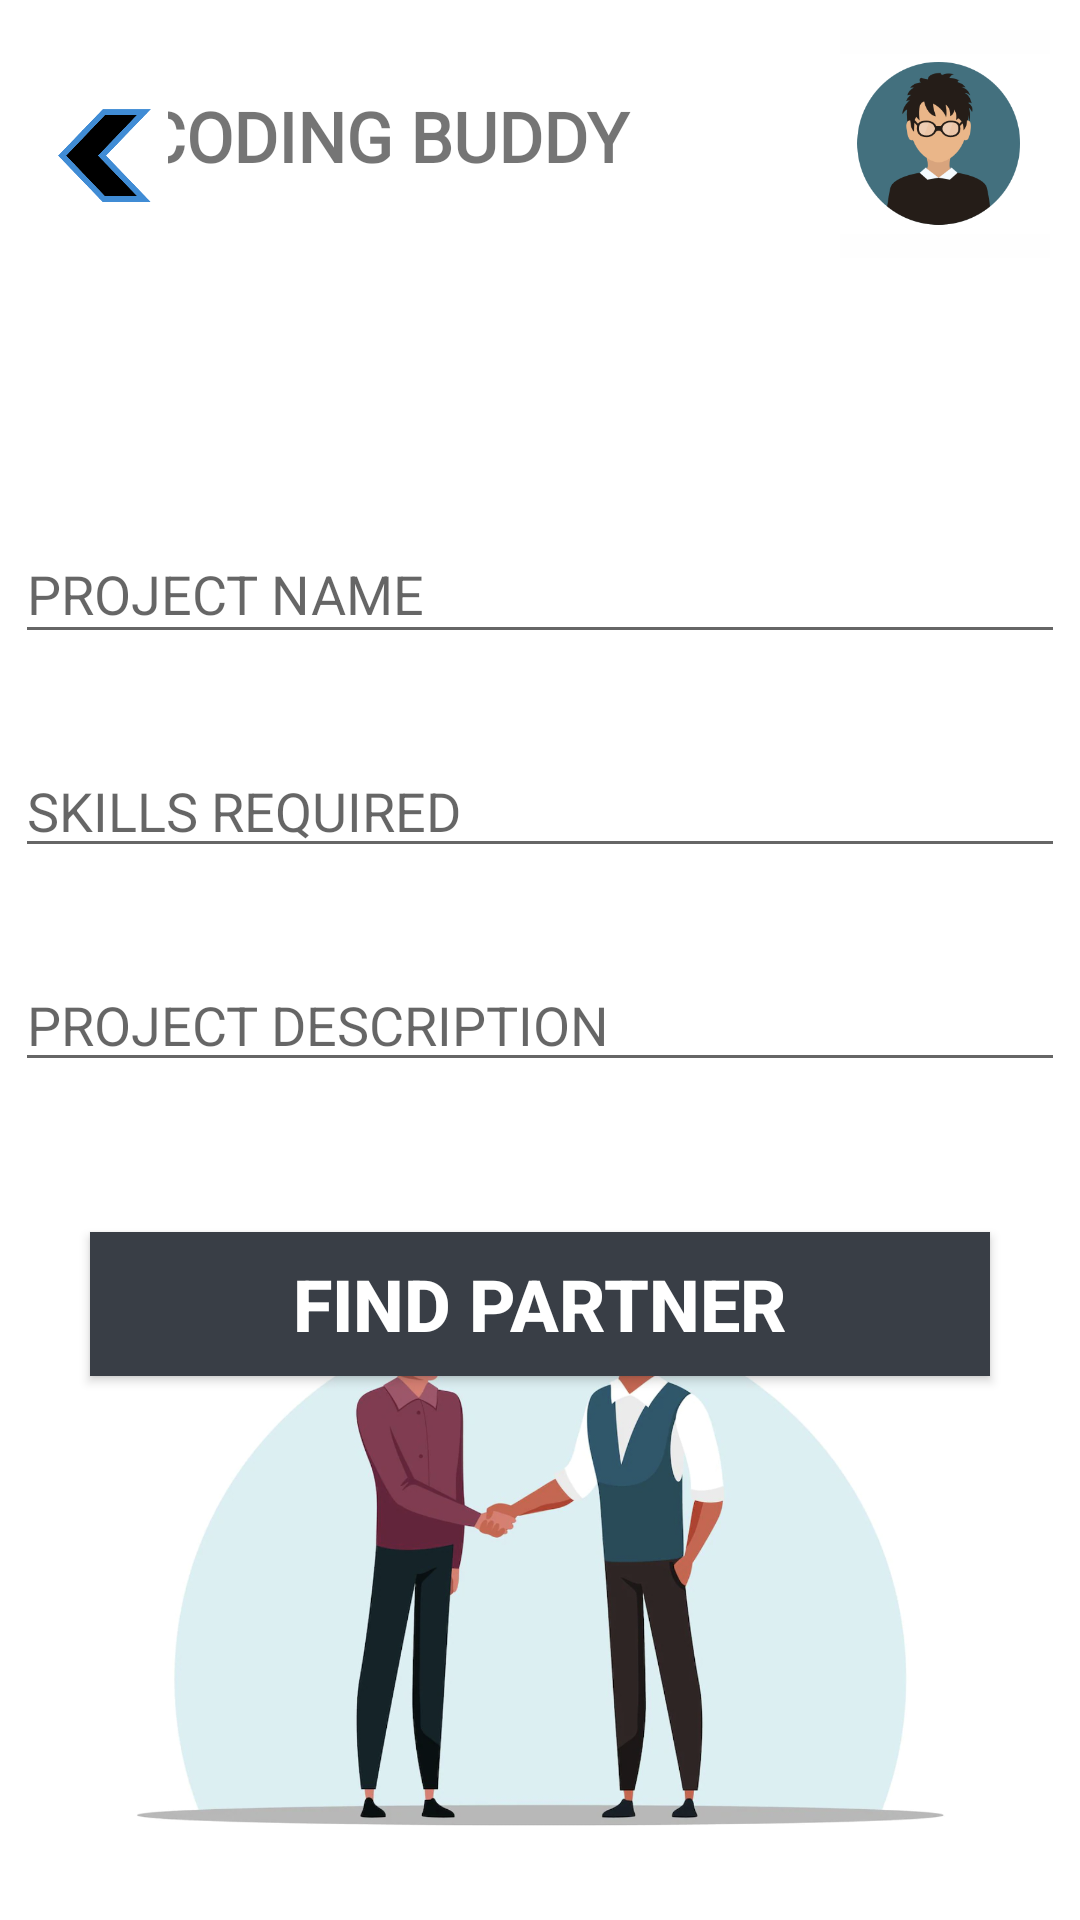

Where to tap for icons on this 1080x1920 app screen, as point (x, y):
backarrow: point (104, 155)
profile: point (938, 143)
